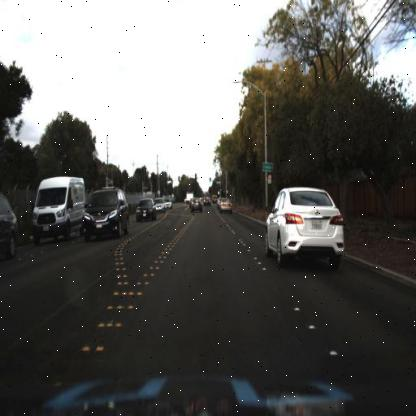car: (262, 184, 346, 272), (30, 174, 87, 244), (81, 181, 132, 240), (60, 192, 102, 242), (0, 189, 22, 260), (134, 196, 159, 226), (218, 197, 235, 217), (189, 196, 204, 218), (153, 193, 166, 216), (164, 199, 175, 214)
truck: (184, 188, 194, 207)
